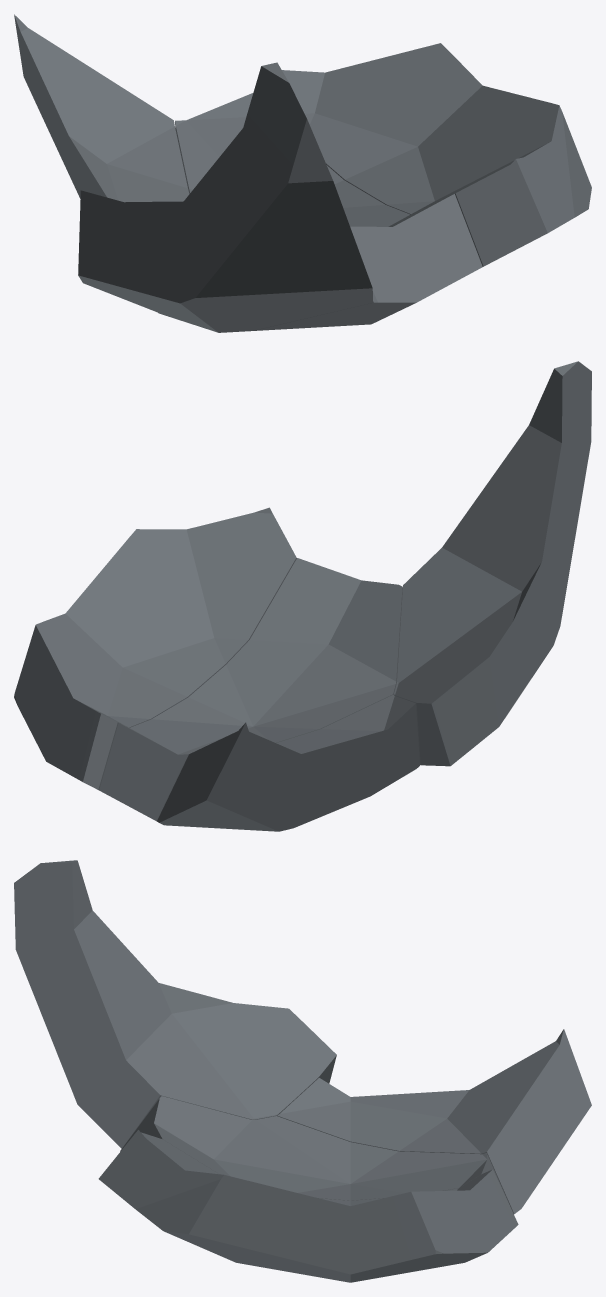
Rendered from Sphere_Fracture_10.DAE.
The picture shows the model from 3 angles, top to bottom: view 1: azimuth 30°, elevation 25°; view 2: azimuth 150°, elevation 25°; view 3: azimuth 270°, elevation 25°; orthographic projection. The views are drawn at different scales.
Parts seen in each view (by area): view 1: Sphere_Fracture_10; view 2: Sphere_Fracture_10; view 3: Sphere_Fracture_10.
Part boxes in pixels (left/top/right/bottom): Sphere_Fracture_10: left=14, top=14, right=591, bottom=332; Sphere_Fracture_10: left=14, top=361, right=591, bottom=831; Sphere_Fracture_10: left=14, top=860, right=591, bottom=1282.
Bounding box in the file's own units: 1.19 × 0.9741 × 1.62.
2 materials, 2 textured.
